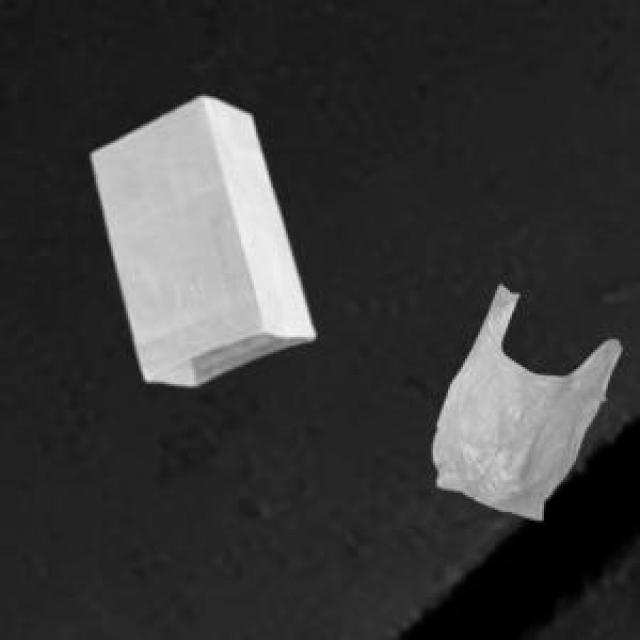paper: (88, 94, 309, 382)
